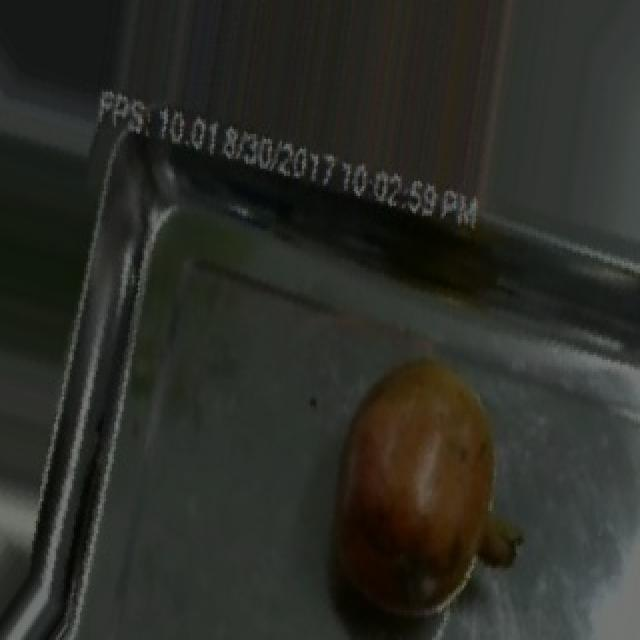fruit: (300, 330, 542, 637)
